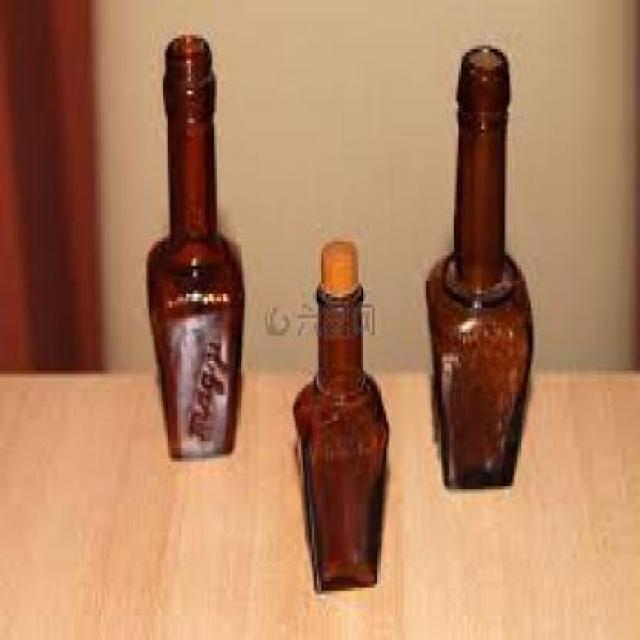kaca: (424, 43, 534, 491), (144, 32, 244, 462), (294, 283, 386, 591)
